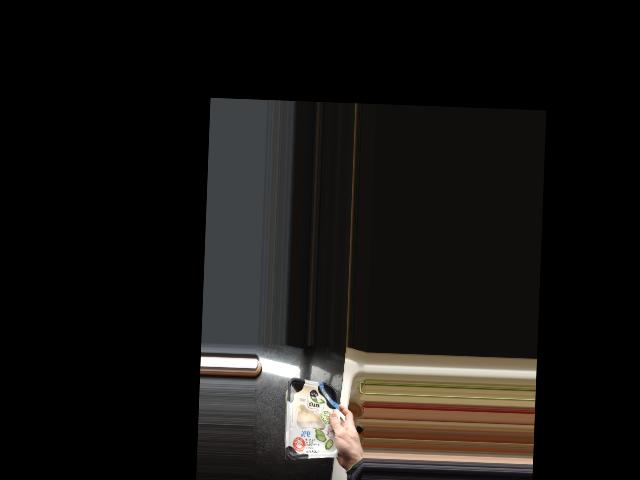cheese: (284, 379, 347, 460)
